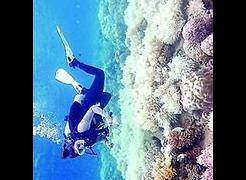bleached_corals: (110, 0, 213, 180), (98, 0, 127, 45), (101, 143, 124, 180)
